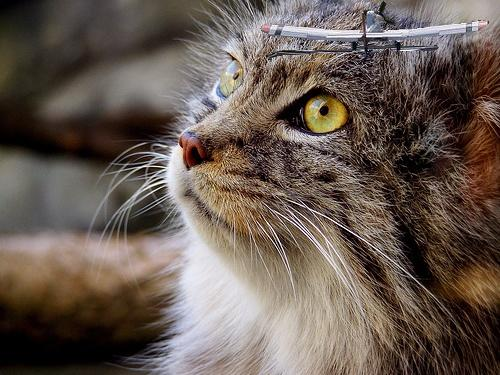tampered: (261, 2, 489, 60)
